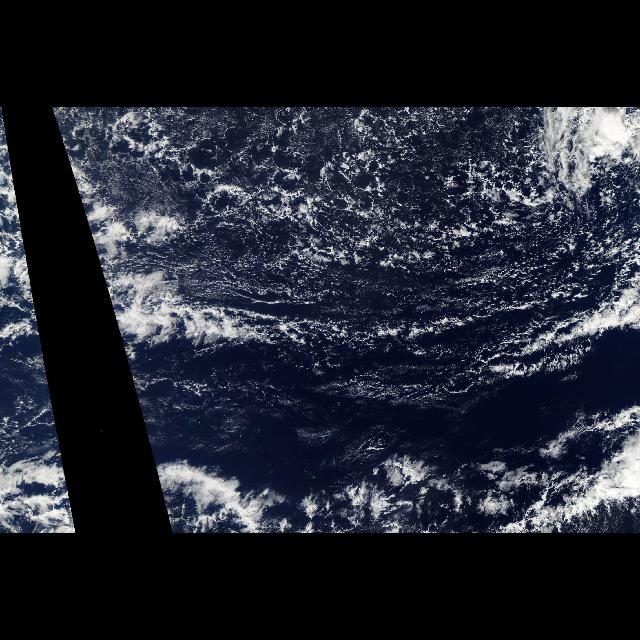Gravel: (90, 107, 628, 391)
